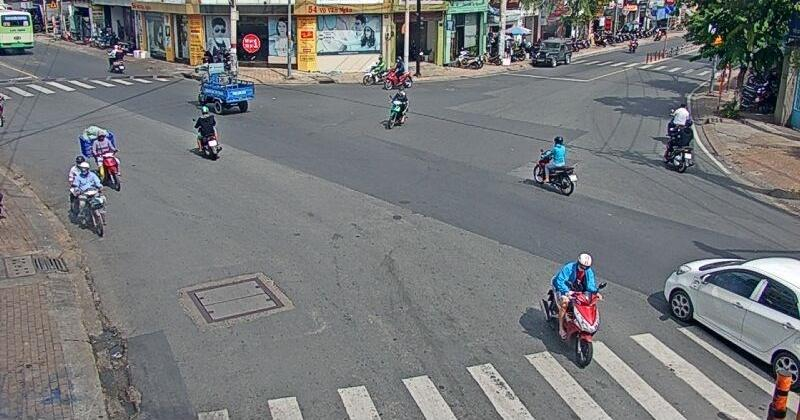xe hoi: (663, 256, 800, 388)
xe may: (541, 252, 607, 368), (68, 155, 104, 236), (533, 135, 577, 197), (91, 130, 121, 191), (665, 118, 695, 171), (192, 105, 220, 161), (387, 86, 408, 129)
